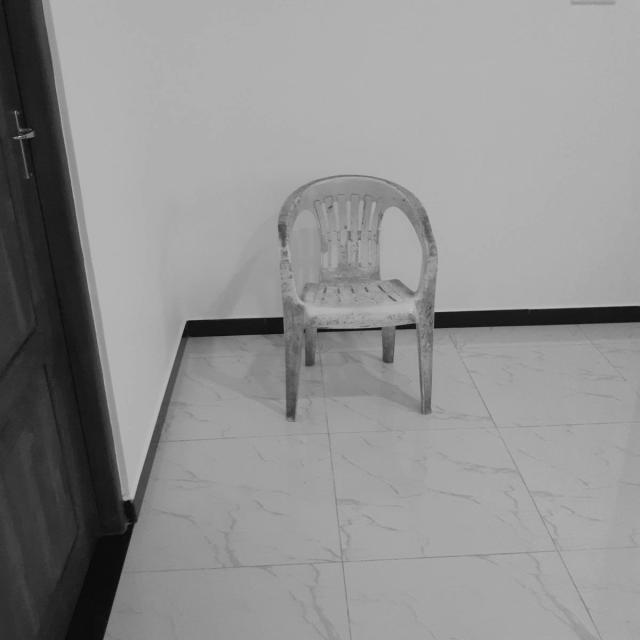chair: (276, 173, 438, 420)
